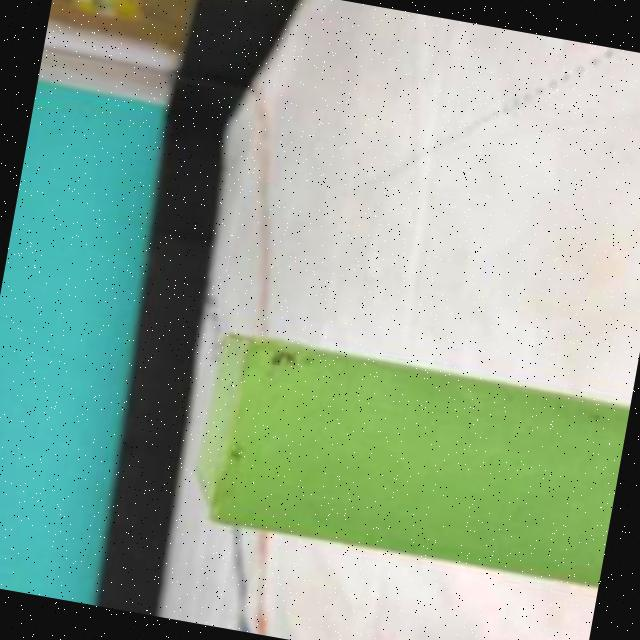greenbox: (189, 332, 630, 588)
